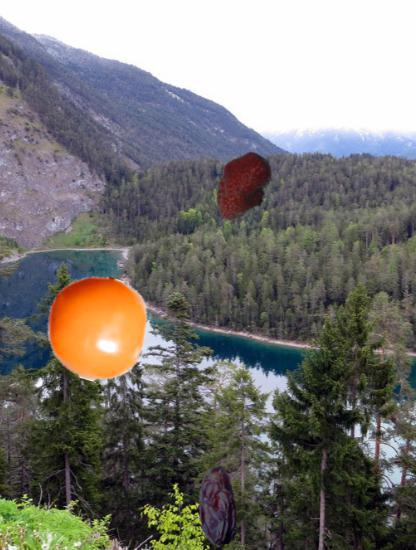Dates: (178, 467, 256, 545)
Strawberry: (205, 149, 280, 224)
Tomato: (44, 275, 150, 381)
